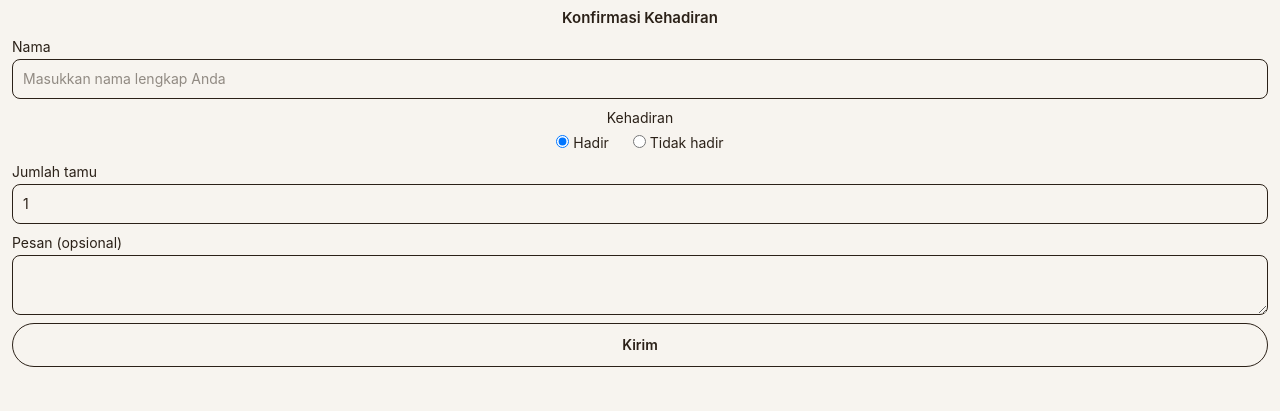
Test: RsvpWidget › shows a generic error from the API without leaking internals
In the field labelled "Nama": (640, 78) x1=12 y1=58 x2=1268 y2=98, type "Budi"
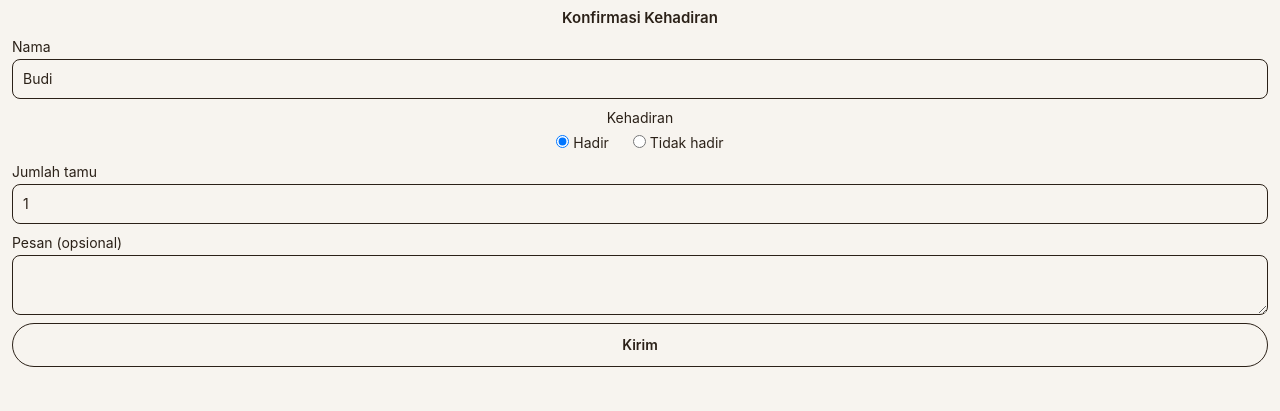
Click the button with test id "rsvp-submit": (640, 344) x1=12 y1=322 x2=1268 y2=366
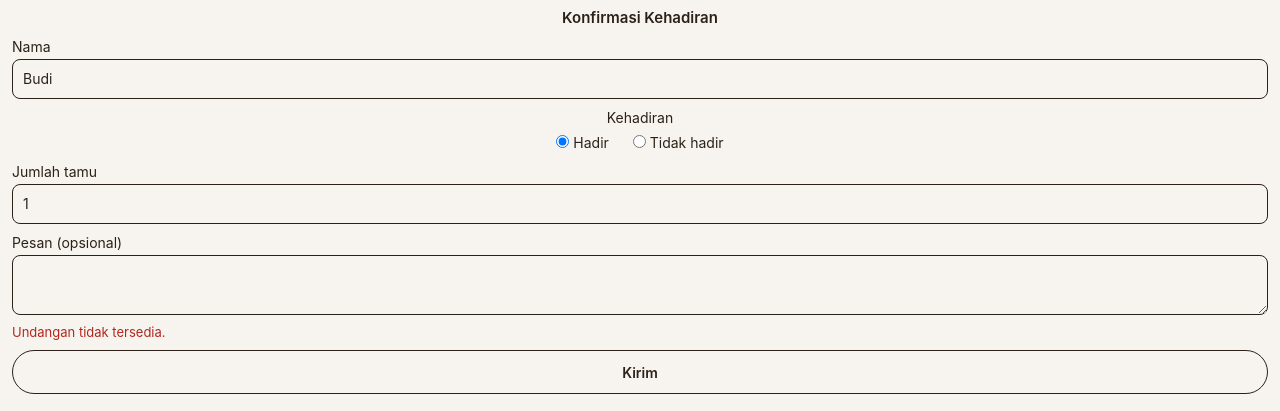
Expected: the message reads "Undangan tidak tersedia.", x1=12 y1=324 x2=166 y2=340
